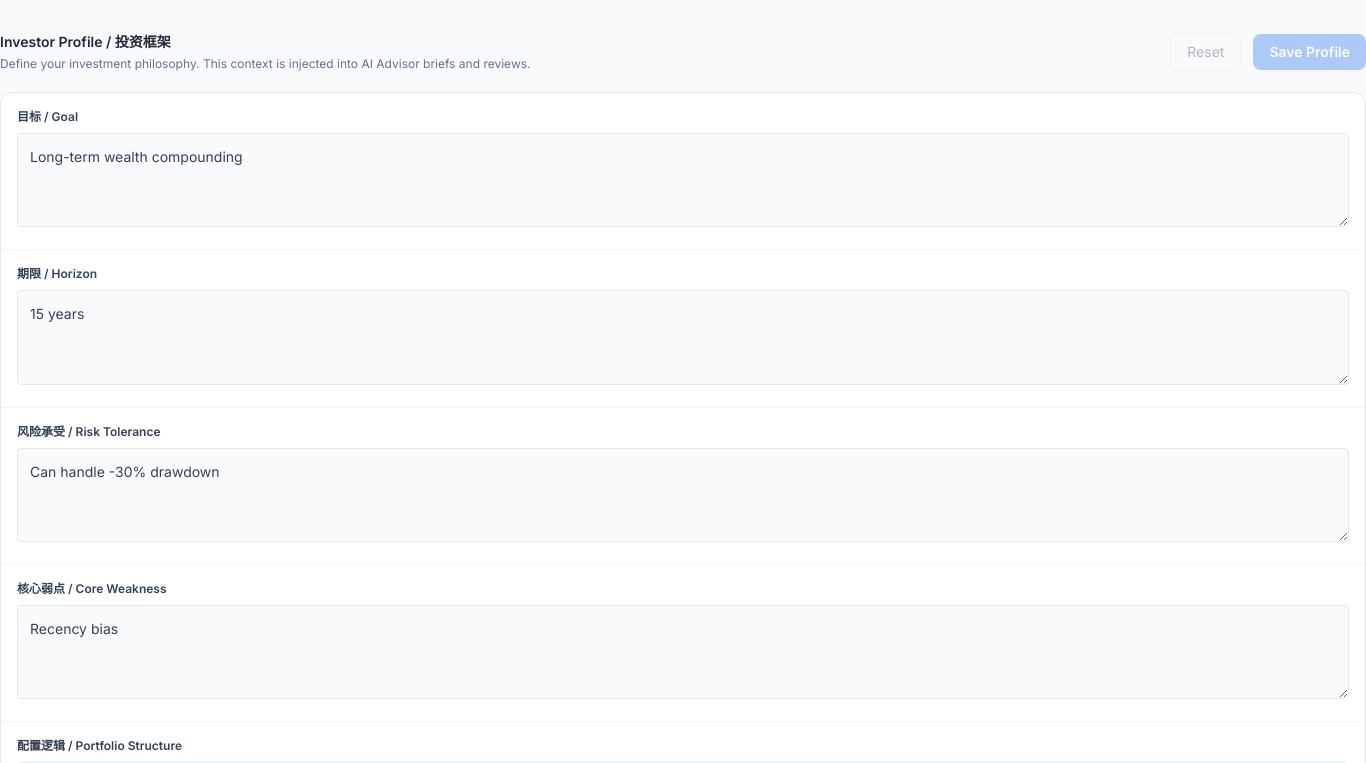
Test: InvestorProfileEditor › shows save-success message after successful save
Clear the text box showing "Long-term wealth compounding" at x=683, y=180, box top-left (17, 133), bottom-right (1349, 227)
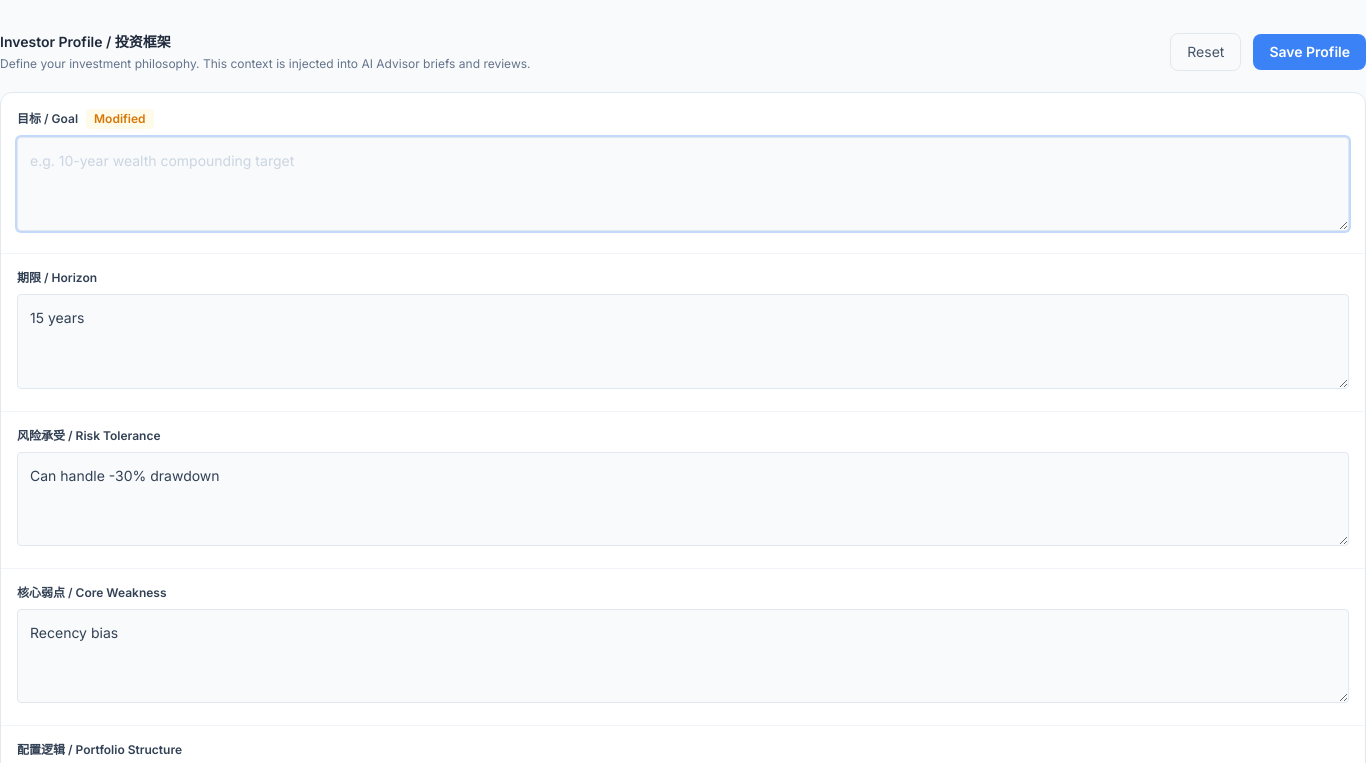
Type "Updated goal text" into the text box showing "Long-term wealth compounding".
click(683, 184); type("Updated goal text")  # box top-left (17, 137), bottom-right (1349, 231)
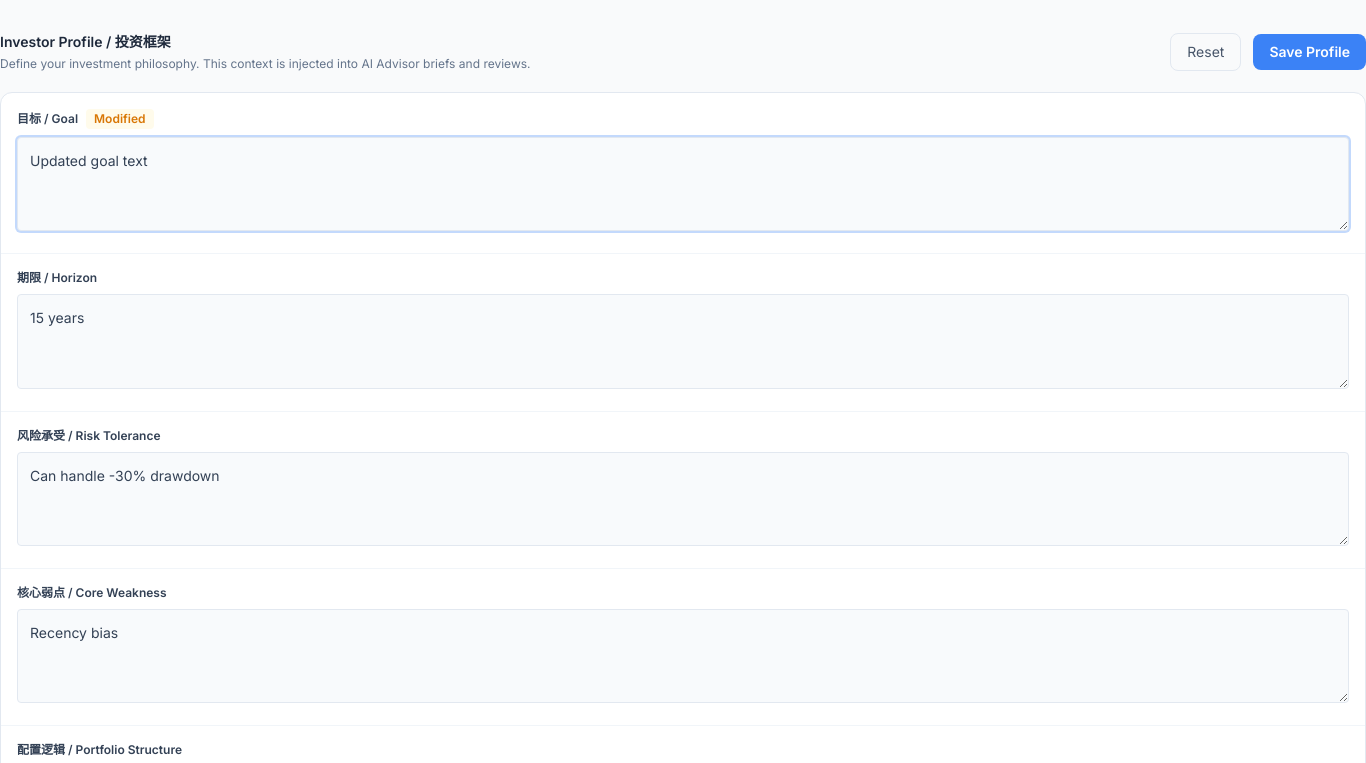
Click the button "Save Profile".
click(1310, 52)  # box top-left (1253, 34), bottom-right (1365, 70)
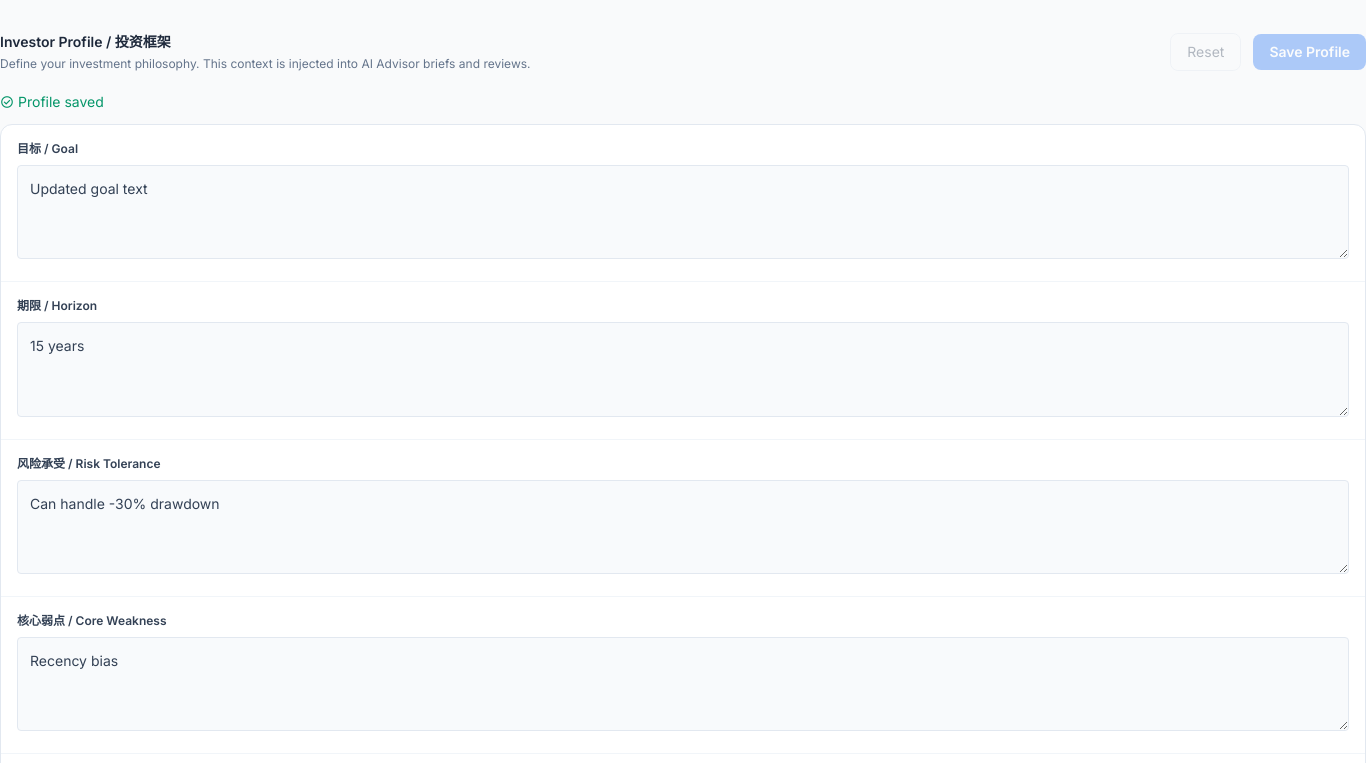
Result: the text "Profile saved" is shown at top-left (0, 93), bottom-right (104, 110)
